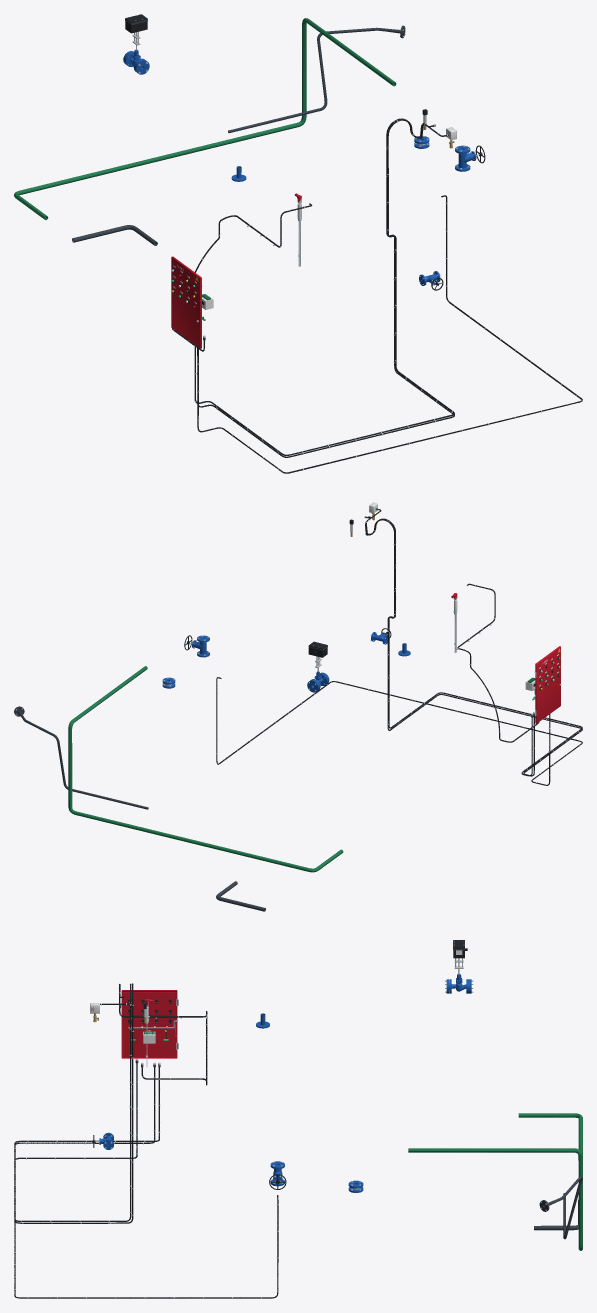
3 renders of one model, top to bottom at view 1: azimuth 30°, elevation 25°; view 2: azimuth 150°, elevation 25°; view 3: azimuth 270°, elevation 25°, orthographic. The views are drawn at different scales.
Visible parts, largest first — view 1: to_economizer / green, cabinet_door / cabinet_door_5.npz, wiring_pump_1 / black, wiring_pressure_switch_2 / black, wiring_pressure_switch_1 / black, tds_without_fv / dark; view 2: to_economizer / green, cabinet_door / cabinet_door_5.npz, wiring_pump_1 / black, wiring_pressure_switch_1 / black, wiring_pressure_switch_2 / black, tds_without_fv / dark; view 3: cabinet_door / cabinet_door_5.npz, to_economizer / green, wiring_pump_1 / black, wiring_pressure_switch_2 / black, wiring_pressure_switch_1 / black, tds_without_fv / dark, wiring_low_level_2 / black.
Part boxes in pixels (x1,y1,x2,y2): to_economizer / green: (14, 18, 396, 219); cabinet_door / cabinet_door_5.npz: (171, 256, 202, 348); wiring_pump_1 / black: (197, 195, 582, 473); wiring_pressure_switch_2 / black: (194, 119, 454, 455); wiring_pressure_switch_1 / black: (197, 118, 454, 457); tds_without_fv / dark: (228, 25, 405, 133); to_economizer / green: (68, 666, 343, 872); cabinet_door / cabinet_door_5.npz: (534, 646, 561, 723); wiring_pump_1 / black: (216, 677, 582, 785); wiring_pressure_switch_1 / black: (365, 509, 582, 776); wiring_pressure_switch_2 / black: (366, 517, 582, 776); tds_without_fv / dark: (14, 706, 148, 809); cabinet_door / cabinet_door_5.npz: (121, 990, 178, 1058); to_economizer / green: (408, 1113, 582, 1250); wiring_pump_1 / black: (14, 1063, 278, 1298); wiring_pressure_switch_2 / black: (14, 984, 159, 1221); wiring_pressure_switch_1 / black: (14, 983, 155, 1223); tds_without_fv / dark: (539, 1176, 582, 1239); wiring_low_level_2 / black: (119, 984, 207, 1085).
Size of the model in its own units: 4.56 by 2.76 by 5.46.
